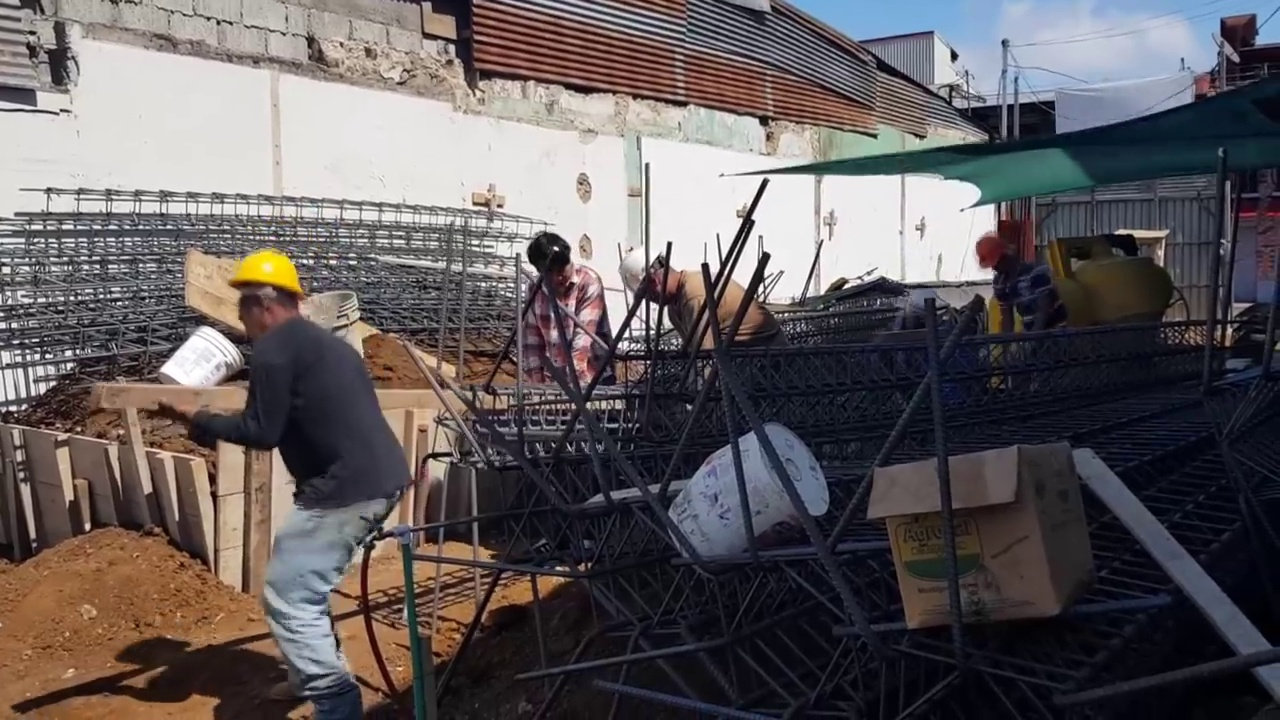helmet: (232, 245, 303, 306), (616, 241, 656, 297), (975, 236, 1006, 270)
helmet-off: (522, 231, 569, 293)
helmet-on: (228, 252, 301, 341), (614, 243, 685, 310), (975, 230, 1013, 279)
person: (151, 252, 426, 720), (599, 240, 788, 352), (516, 233, 608, 379), (973, 232, 1061, 340)
